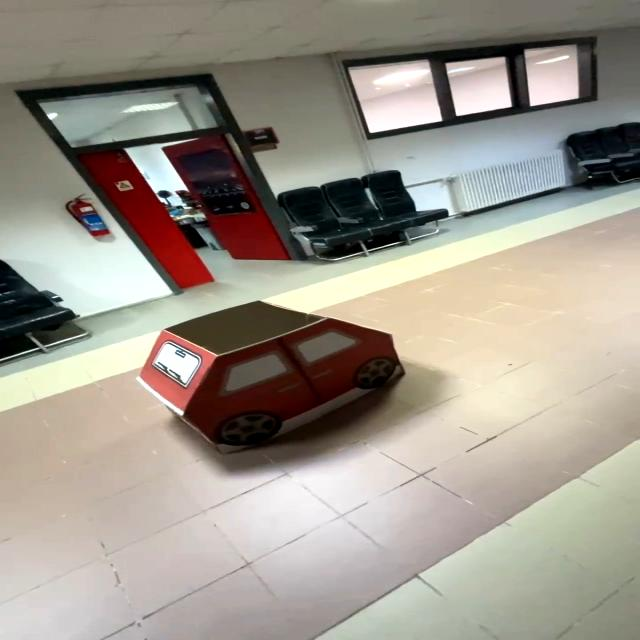red_car: (103, 282, 439, 451)
